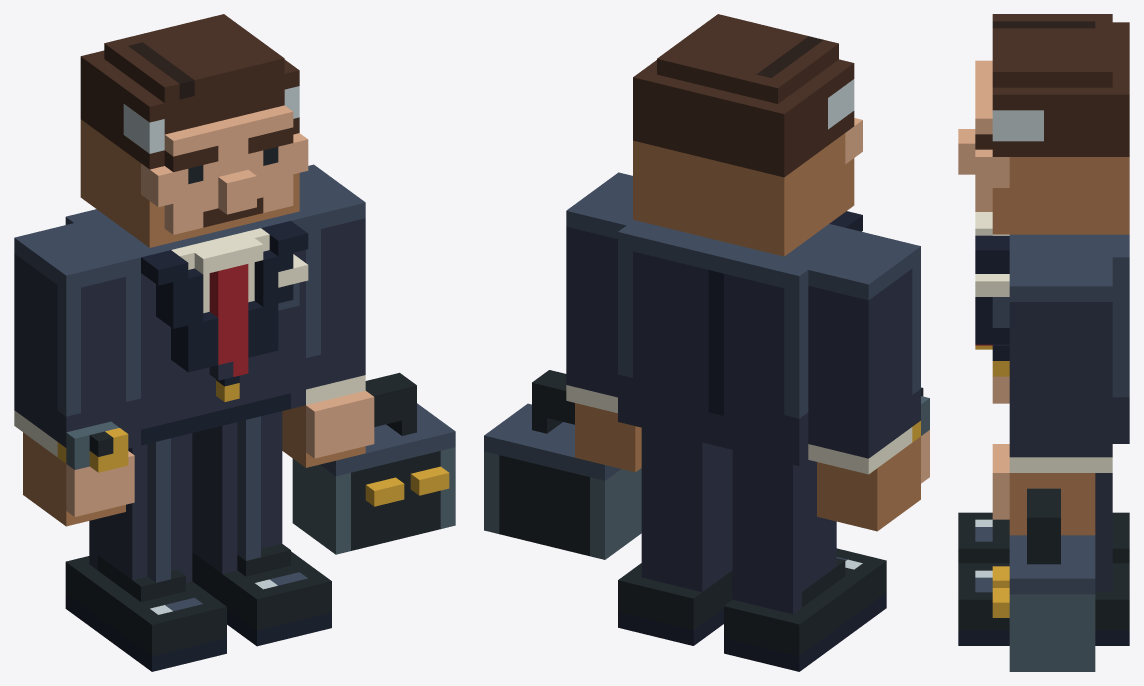
Rendered from corporate_boss.glb.
3 renders of one model, left to right at view 1: azimuth 30°, elevation 25°; view 2: azimuth 150°, elevation 25°; view 3: azimuth 270°, elevation 25°, orthographic.
Visible parts, largest first — view 1: head, arm_right, torso, arm_left, leg_left, leg_right; view 2: head, torso, arm_right, arm_left, leg_left, leg_right; view 3: arm_right, head, torso, leg_right, leg_left, arm_left.
Part boxes in pixels (left/top/right/bottom): head: left=80, top=14, right=308, bottom=247; arm_right: left=282, top=164, right=455, bottom=554; torso: left=65, top=209, right=308, bottom=448; arm_left: left=14, top=223, right=134, bottom=526; leg_left: left=65, top=433, right=226, bottom=671; leg_right: left=192, top=411, right=331, bottom=646; head: left=633, top=14, right=862, bottom=256; torso: left=618, top=211, right=862, bottom=465; arm_right: left=484, top=172, right=641, bottom=559; arm_left: left=808, top=231, right=929, bottom=531; leg_left: left=724, top=450, right=886, bottom=671; leg_right: left=618, top=428, right=732, bottom=645; arm_right: left=992, top=257, right=1112, bottom=671; head: left=958, top=14, right=1129, bottom=234; torso: left=975, top=212, right=1129, bottom=443; leg_right: left=958, top=473, right=1129, bottom=645; leg_left: left=958, top=512, right=1129, bottom=563; arm_left: left=975, top=345, right=1009, bottom=403.
Size of the model in its own units: 1.3 by 1.8 by 0.5.
1 material, 1 textured.
